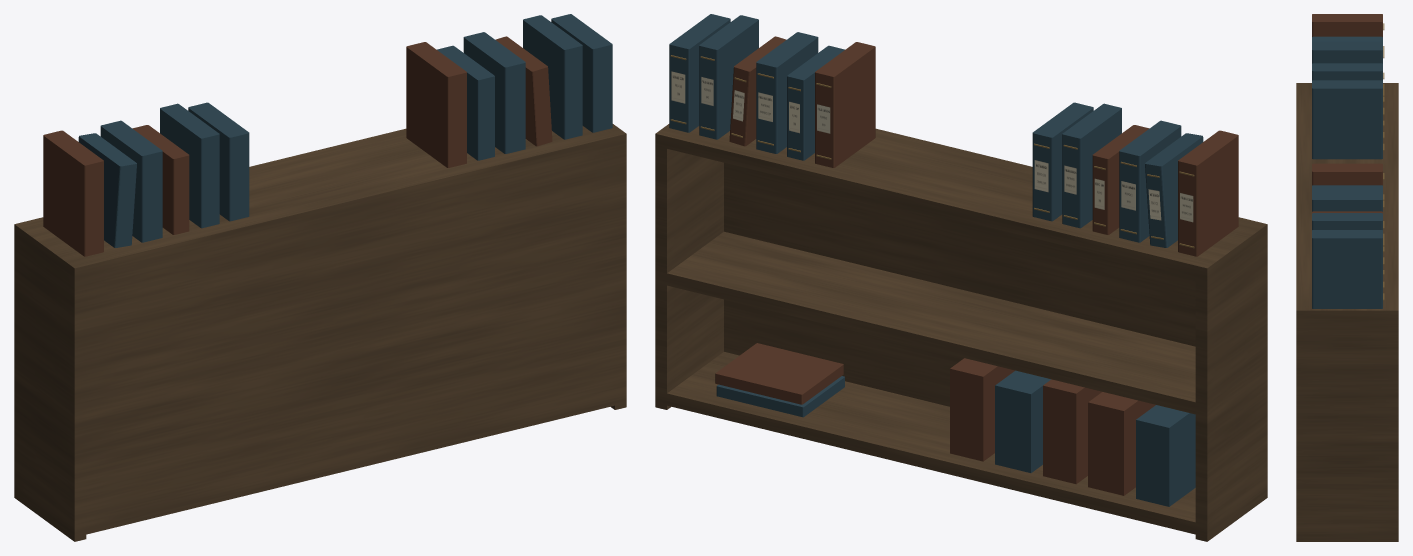
Rendered from SM_ArchiveProps_Bookcase_LOD1.glb.
3 renders of one model, left to right at view 1: azimuth 30°, elevation 25°; view 2: azimuth 150°, elevation 25°; view 3: azimuth 270°, elevation 25°, orthographic. The views are drawn at different scales.
Parts seen in each view (by area): view 1: SM_ArchiveProps_Bookcase_LOD1; view 2: SM_ArchiveProps_Bookcase_LOD1; view 3: SM_ArchiveProps_Bookcase_LOD1.
Part boxes in pixels (x1,y1,x2,y2): SM_ArchiveProps_Bookcase_LOD1: [14, 14, 626, 541]; SM_ArchiveProps_Bookcase_LOD1: [655, 14, 1267, 541]; SM_ArchiveProps_Bookcase_LOD1: [1296, 14, 1398, 541].
Bounding box in the file's own units: 1.9 × 1.2 × 0.36.
Materials: 6 (2 with a texture image).
